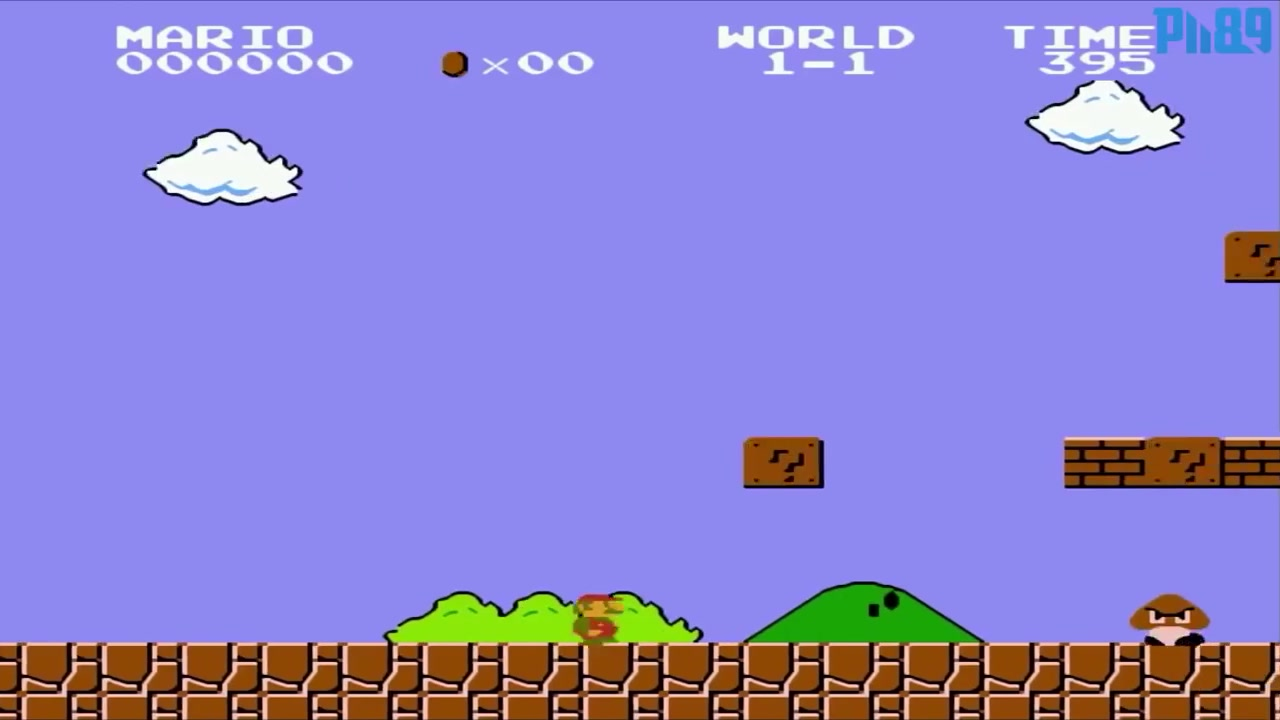mario: (566, 584, 630, 652)
